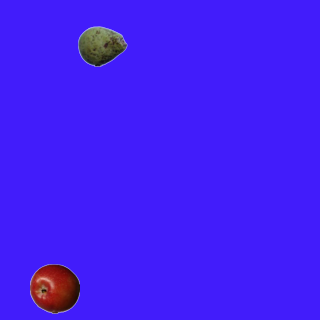Apple Braeburn: (29, 263, 79, 313)
Pear Stone: (77, 21, 127, 71)
